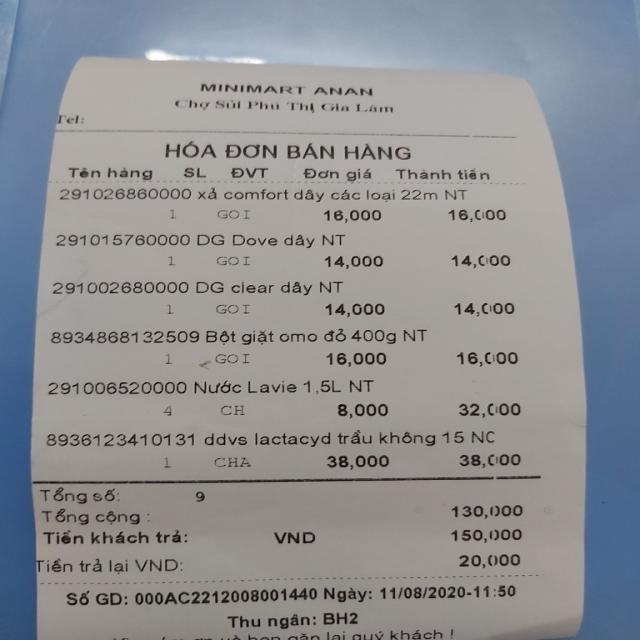Date: (378, 585, 467, 600)
Store_Name: (198, 78, 378, 98)
amount_number: (450, 503, 526, 519)
label_total: (42, 506, 144, 527)
